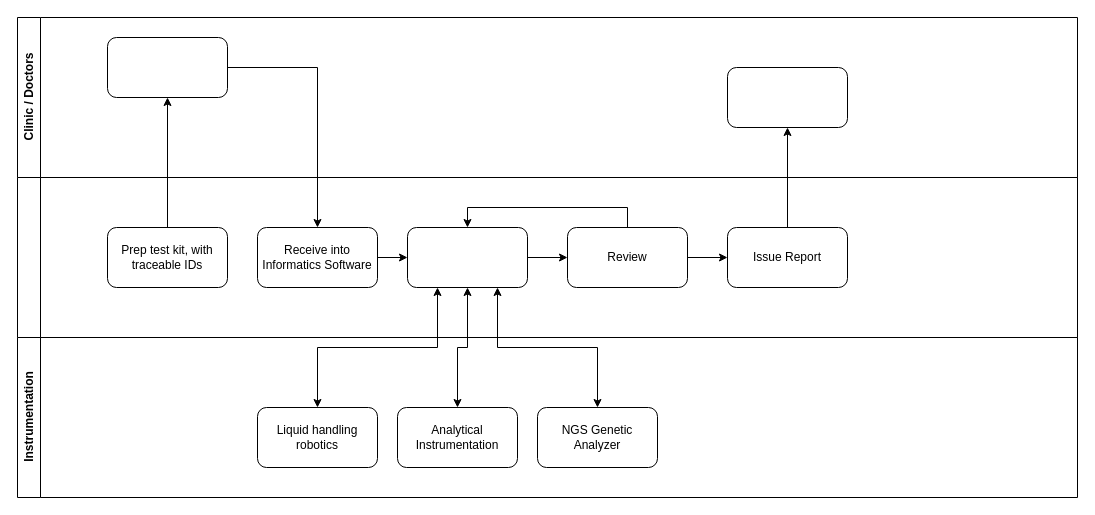
Image size: 1095x515. Some labels were removed from this diagram. Each missing label, with the box of its shape:
NGS Laboratory: (16, 176, 1078, 338)
Notify (email / fax): (726, 66, 848, 128)
Sample Collection, send kit to lab: (106, 36, 228, 98)
Test Samples: (406, 226, 528, 288)
